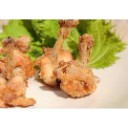chicken_lollipop: (39, 20, 78, 87), (1, 37, 36, 108), (62, 35, 100, 98)
